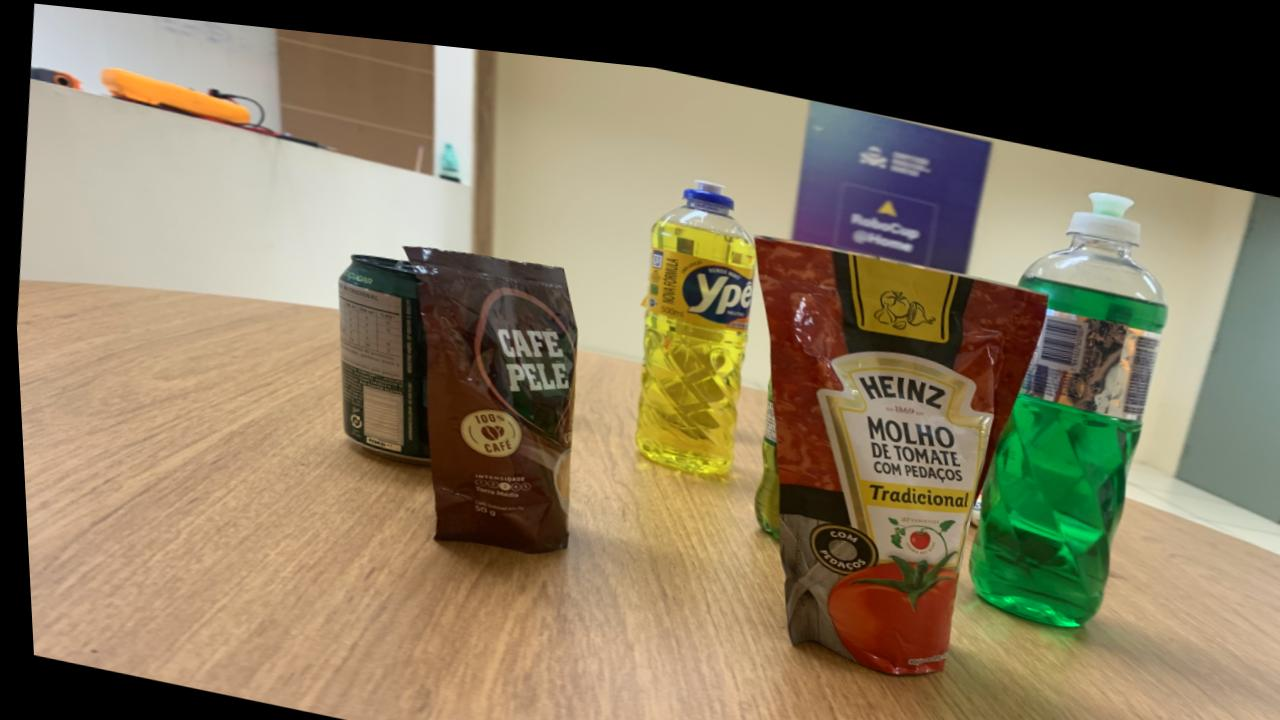Coffee-Pantry_Items: (403, 237, 574, 542)
Detergent-Cleanup_Items: (964, 168, 1166, 604), (631, 166, 754, 459)
Guarana-Drinks: (750, 364, 776, 518)
Guarana_Can-Drinks: (335, 246, 426, 455)
Tomato_Sauce-Pantry_Items: (753, 220, 1045, 655)
